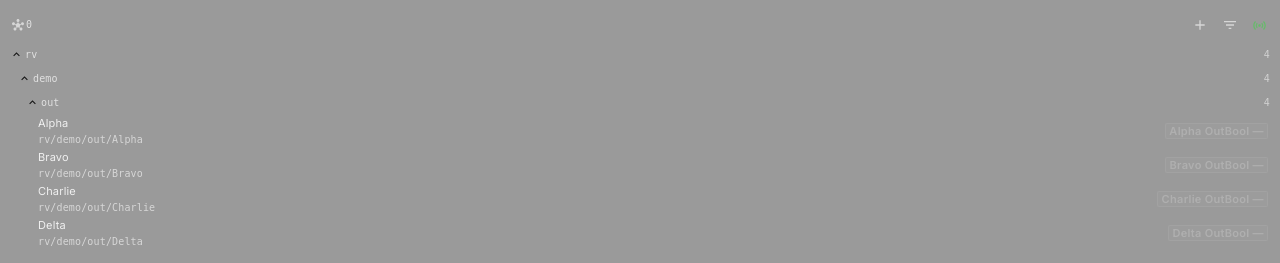
Test: CONNECT signal list — multi-selection wiring › opens the row menu on right-click and names the selected count
Click the element showing "Alpha rv/demo/out/Alpha Alpha OutBool —" at {"x": 53, "y": 123}, box [8, 114, 1272, 148]
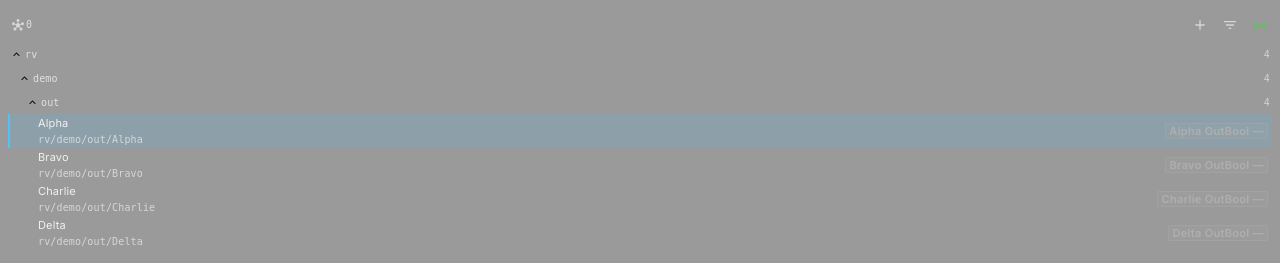
Click the element showing "Bravo rv/demo/out/Bravo Bravo OutBool —" at {"x": 53, "y": 157}, box [8, 148, 1272, 182]
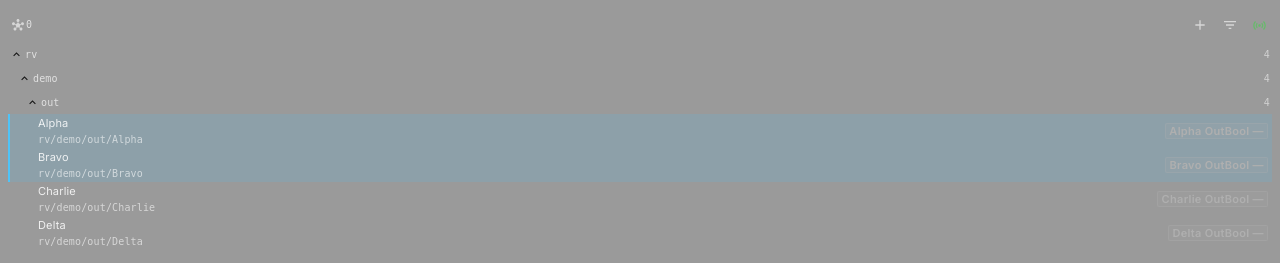
Right-click the element showing "Bravo rv/demo/out/Bravo Bravo OutBool —" at {"x": 640, "y": 165}, box [8, 148, 1272, 182]
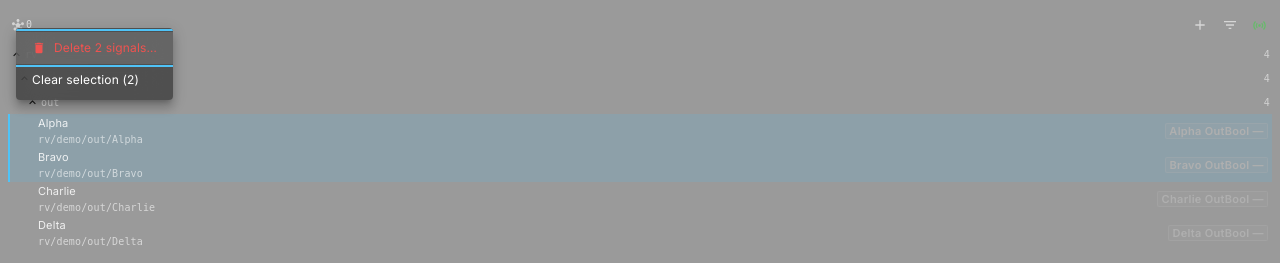
Check: the menu item "Delete 2 signals…" is shown, box [16, 32, 173, 64]
